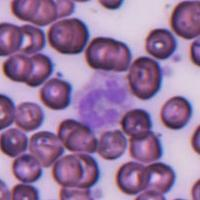N: (74, 68, 132, 130)
